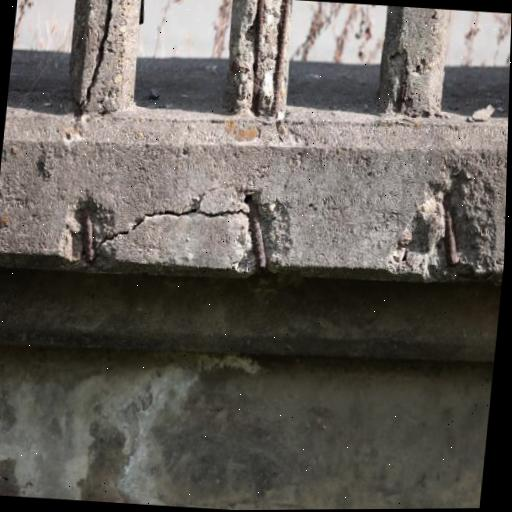exposed_rebar: (271, 0, 290, 116), (246, 195, 267, 269), (252, 0, 265, 115), (443, 197, 459, 265), (82, 207, 95, 262), (400, 64, 405, 117)
spalling: (391, 172, 503, 280), (238, 191, 291, 271), (68, 198, 115, 263)
